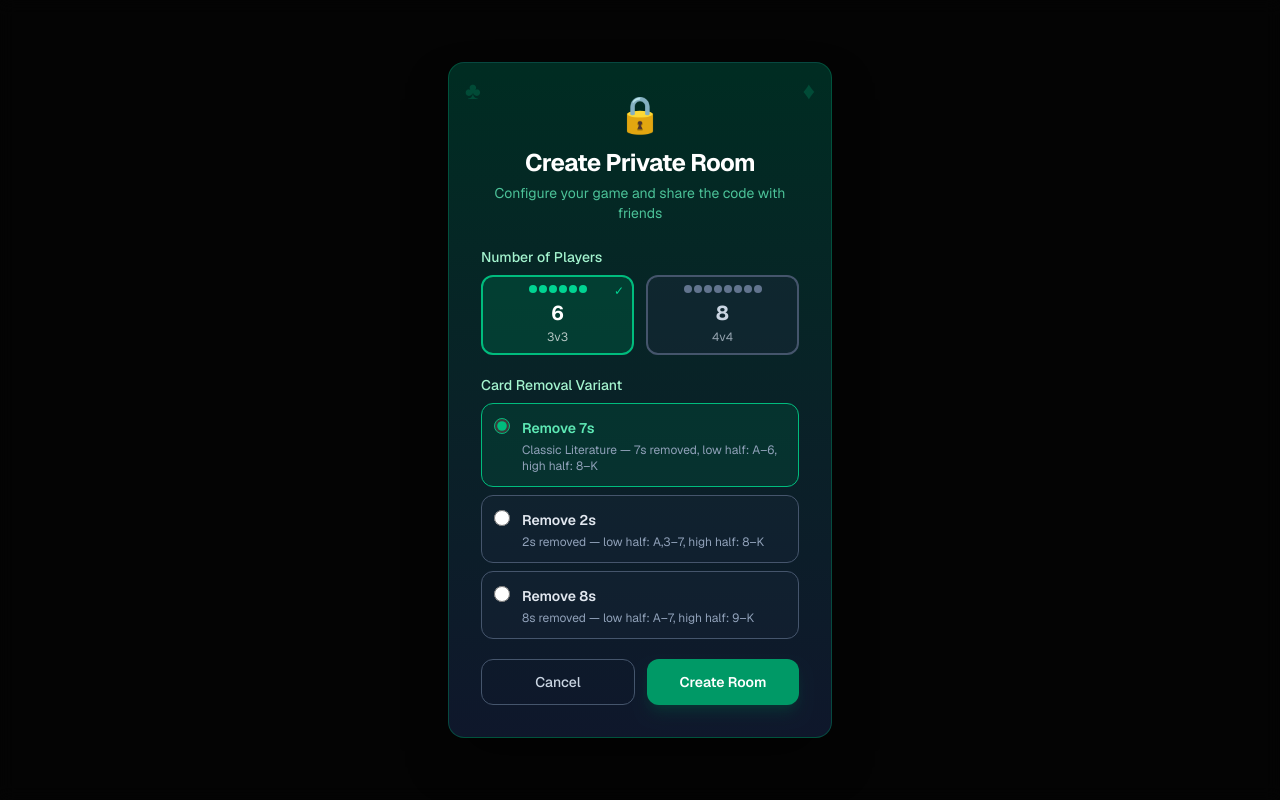
Scenario: CreateRoomModal — form phase › shows error message on API failure
Click the button "Create Room": (723, 682) [647,659,799,705]
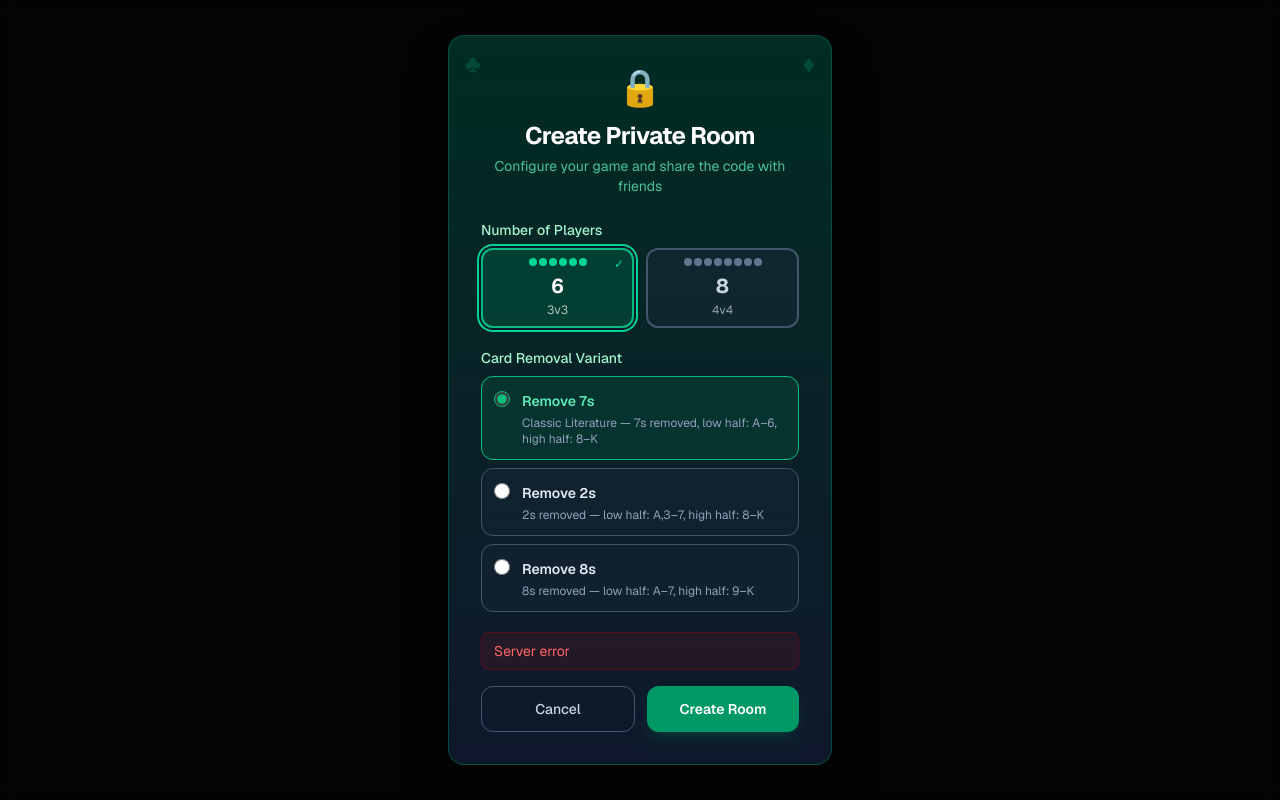
Result: the text "Server error" is shown at [481,632,799,670]
